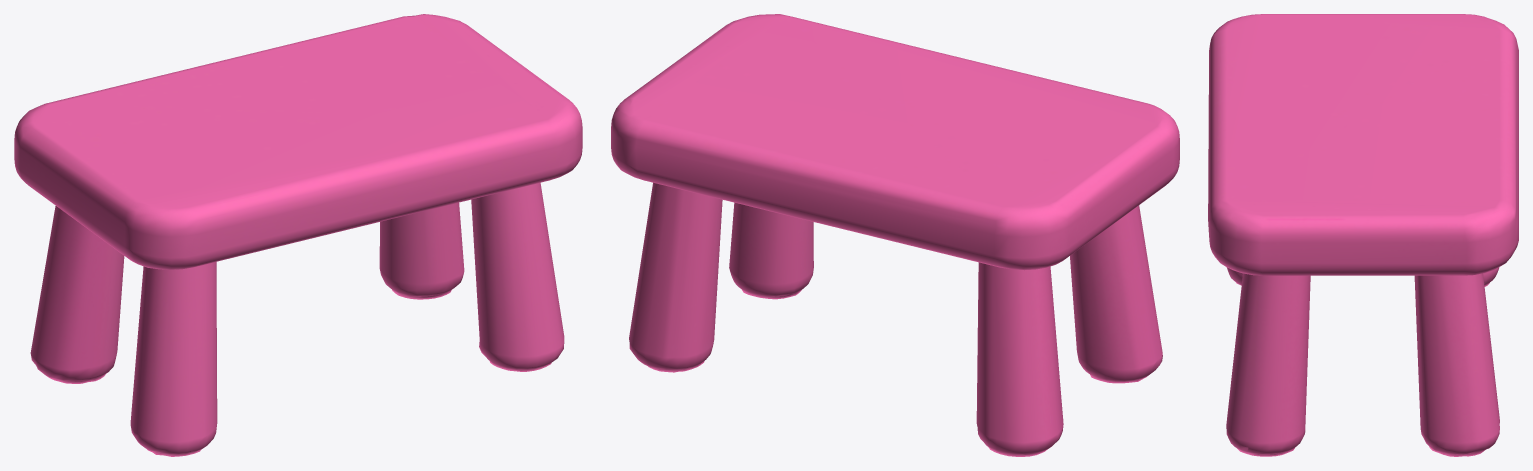
The model's file is bench.glb.
3 renders of one model, left to right at view 1: azimuth 30°, elevation 25°; view 2: azimuth 150°, elevation 25°; view 3: azimuth 270°, elevation 25°, orthographic. The views are drawn at different scales.
Size of the model in its own units: 0.9575 by 0.5122 by 0.585.
Materials: 1 (1 with a texture image).
